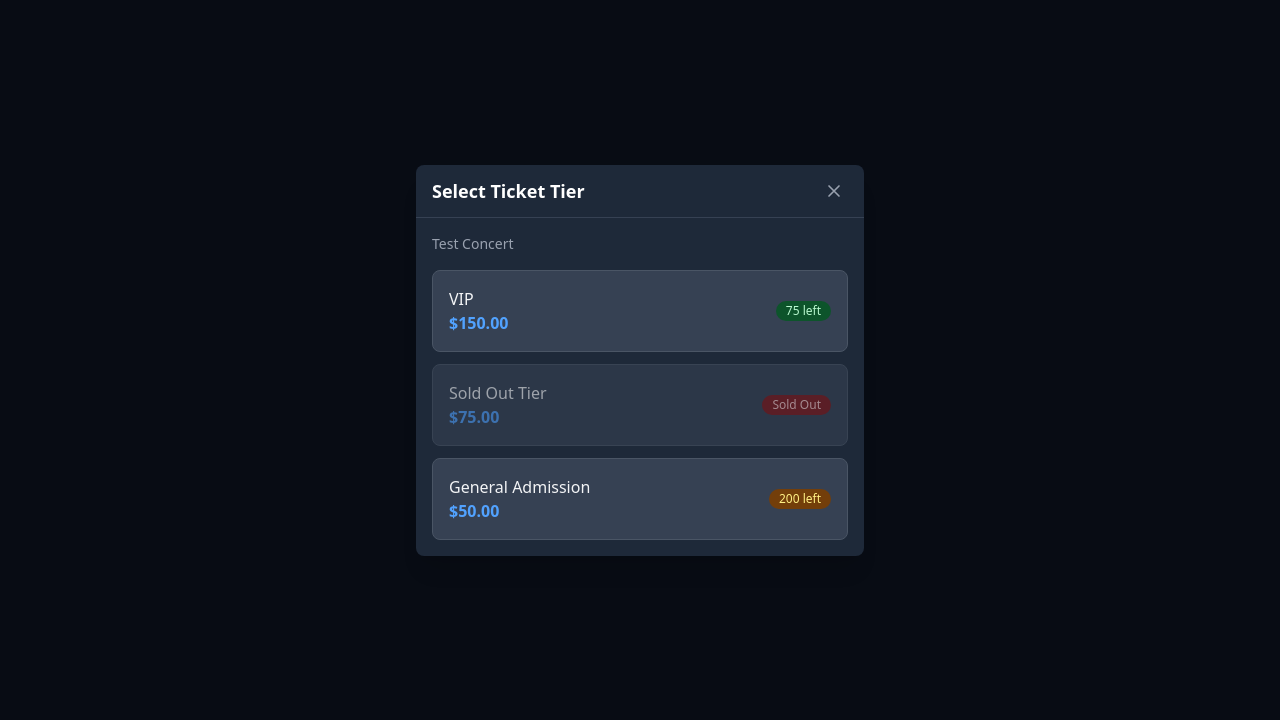
BookingModal › Booking Form Step › goes back to tier selection when Change is clicked
This screenshot has width=1280, height=720.
Step 1. Click the button "VIP $150.00 75 left" → (479, 322), box [432, 270, 848, 352]
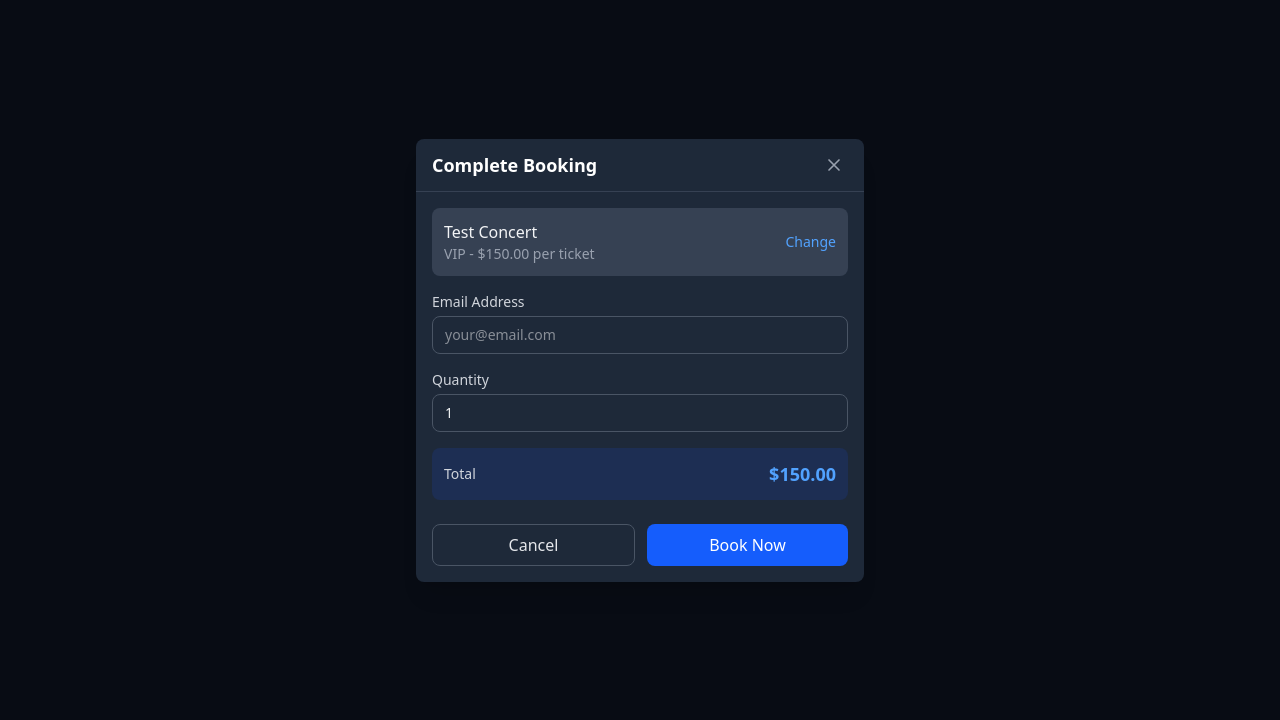
Step 2. Click the button "Change" → (811, 242), box [786, 232, 836, 252]
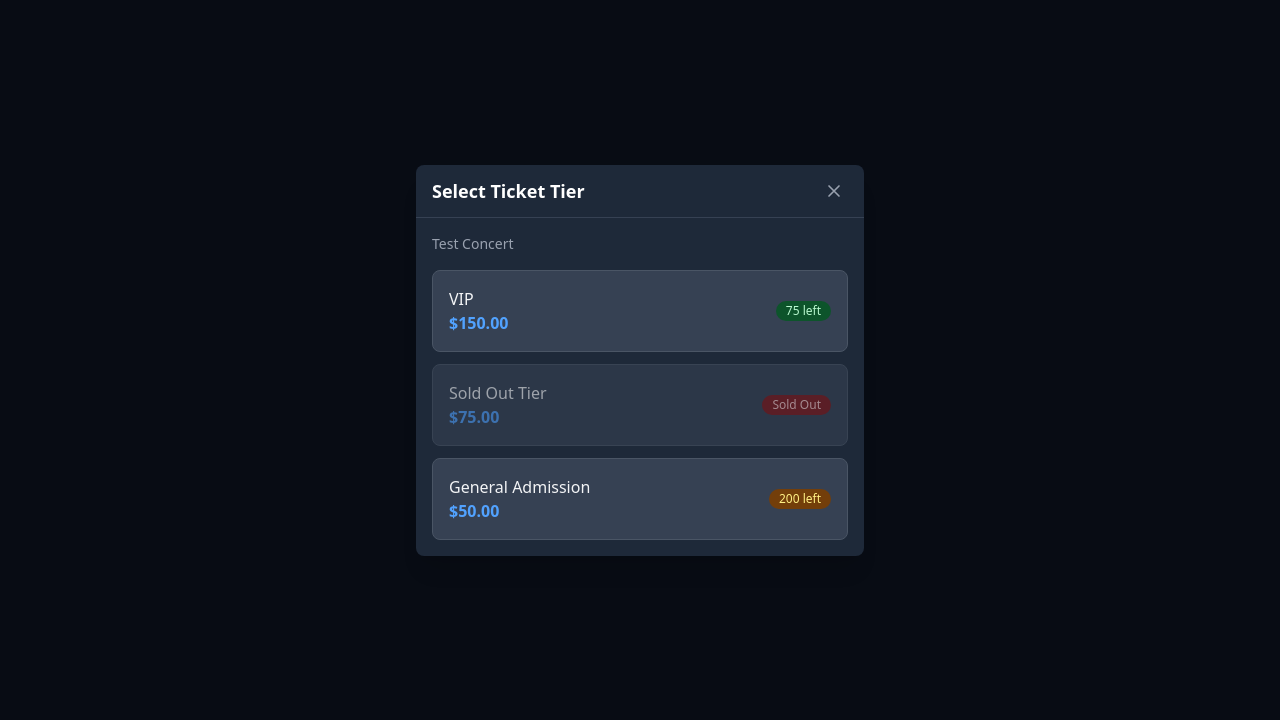
Now the heading "Select Ticket Tier" is shown, box [432, 176, 585, 204]
